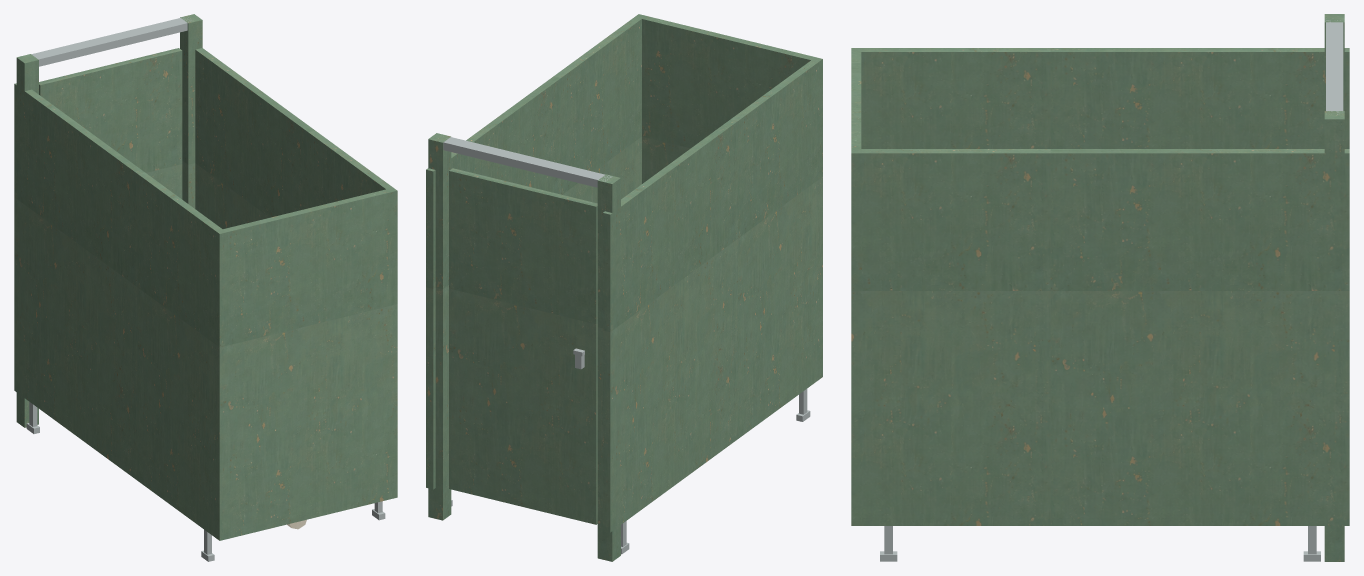
File: bath-stall-right.gltf
3 views of the same model, side by side, from view 1: azimuth 30°, elevation 25°; view 2: azimuth 150°, elevation 25°; view 3: azimuth 270°, elevation 25° (orthographic). The views are drawn at different scales.
Parts seen in each view (by area): view 1: partition-paint, door-paint, partition-metal, fittings-metal; view 2: partition-paint, door-paint, partition-metal, fittings-metal; view 3: partition-paint, partition-metal, fittings-metal.
Boxes of the visible parts, x1,y1,x2,y2 form: partition-paint: (14,14,397,540); door-paint: (39,48,182,199); partition-metal: (31,17,191,66); fittings-metal: (26,402,385,561); partition-paint: (426,14,822,561); door-paint: (449,168,597,524); partition-metal: (443,137,612,187); fittings-metal: (451,389,810,554); partition-paint: (851,14,1349,561); partition-metal: (1326,20,1343,114); fittings-metal: (880,526,1320,561).
Size of the model in its own units: 1 by 1.96 by 2.
5 materials, 2 textured.
